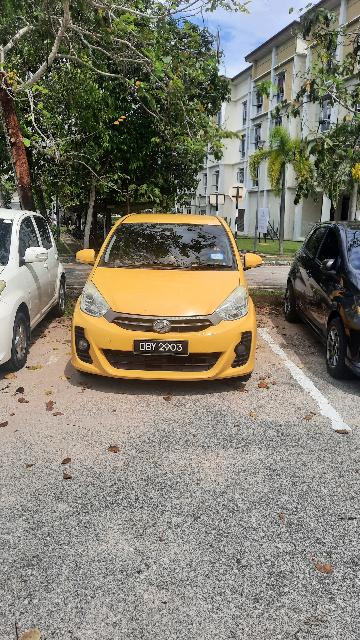License_Plate: (133, 337, 192, 357)
car: (67, 210, 270, 389)
